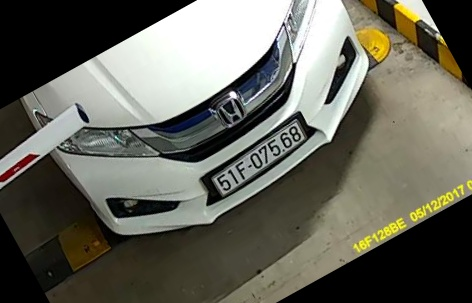plate: (206, 119, 315, 189)
